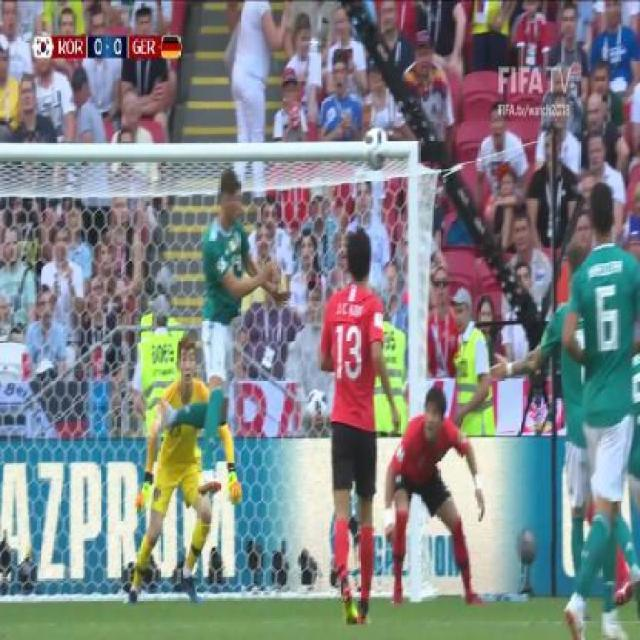ball: (358, 121, 391, 174)
player: (543, 157, 640, 640), (311, 217, 410, 623), (186, 158, 286, 495), (122, 321, 224, 604), (376, 380, 492, 609)
